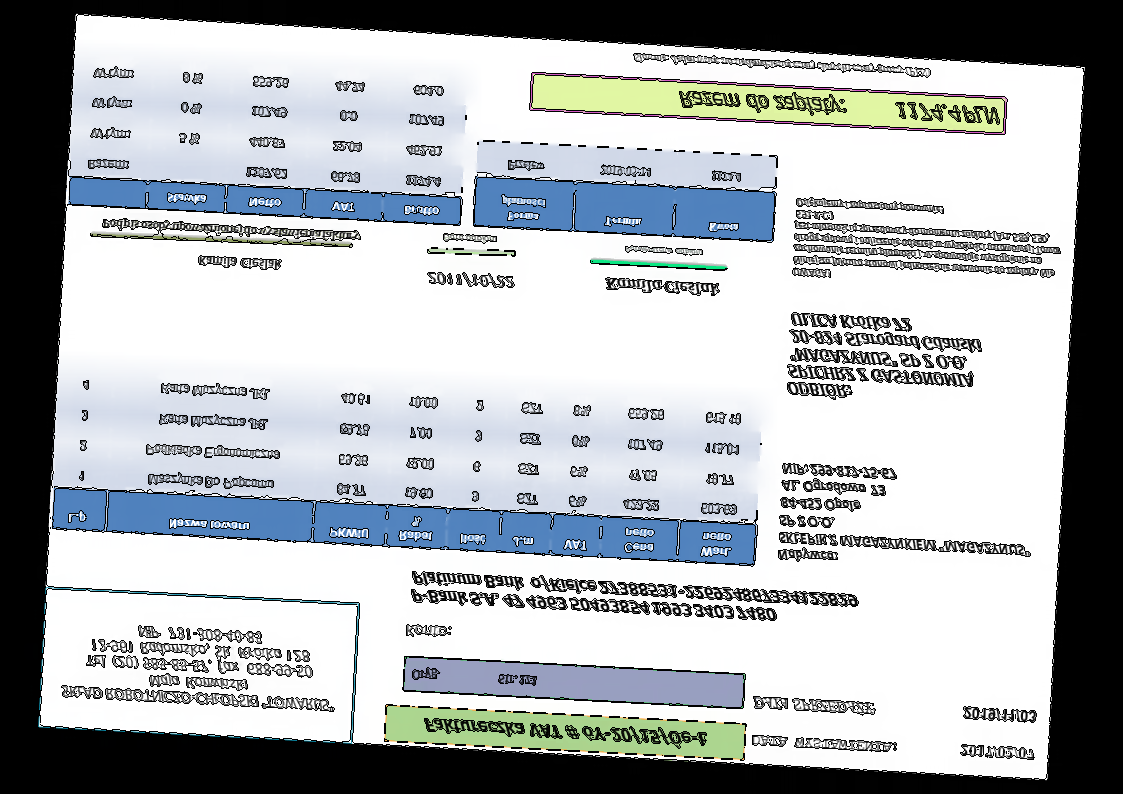Table: (50, 364, 764, 568), (67, 54, 471, 227), (472, 138, 778, 244)
TextBox: (775, 459, 1037, 577), (408, 568, 859, 629), (790, 195, 1067, 292), (58, 620, 340, 715), (785, 310, 987, 407), (676, 86, 1003, 131), (421, 712, 710, 751), (632, 49, 933, 82), (98, 214, 363, 246), (747, 731, 900, 756), (409, 664, 539, 690), (751, 694, 879, 718), (603, 275, 723, 300), (425, 269, 516, 292), (958, 740, 1037, 764), (960, 704, 1039, 727), (196, 253, 283, 272), (623, 243, 704, 259), (402, 620, 453, 641), (440, 230, 498, 246)
